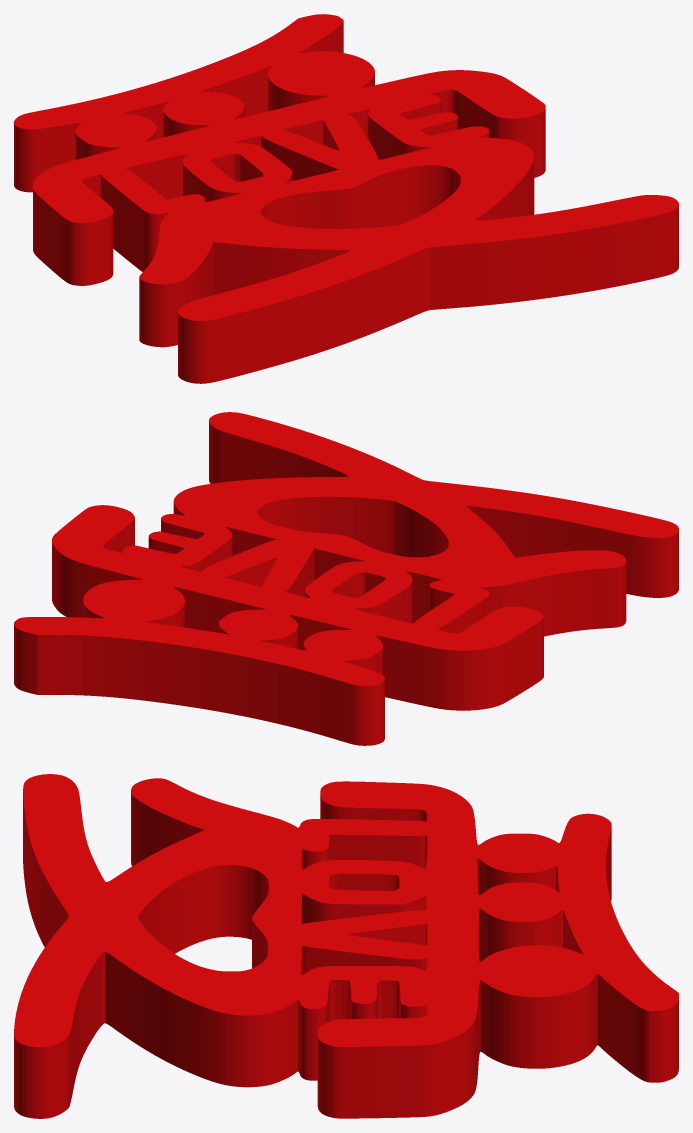
The model's file is love.glb.
3 views of the same model, one above another, from view 1: azimuth 30°, elevation 25°; view 2: azimuth 150°, elevation 25°; view 3: azimuth 270°, elevation 25° (orthographic). The views are drawn at different scales.
Visible parts, largest first — view 1: 愛; view 2: 愛; view 3: 愛.
Boxes of the visible parts, bbox=[...] form: 愛: bbox=[14, 14, 678, 383]; 愛: bbox=[14, 412, 678, 745]; 愛: bbox=[14, 774, 678, 1118].
Bounding box in the file's own units: 0.1637 × 0.02 × 0.1684.
